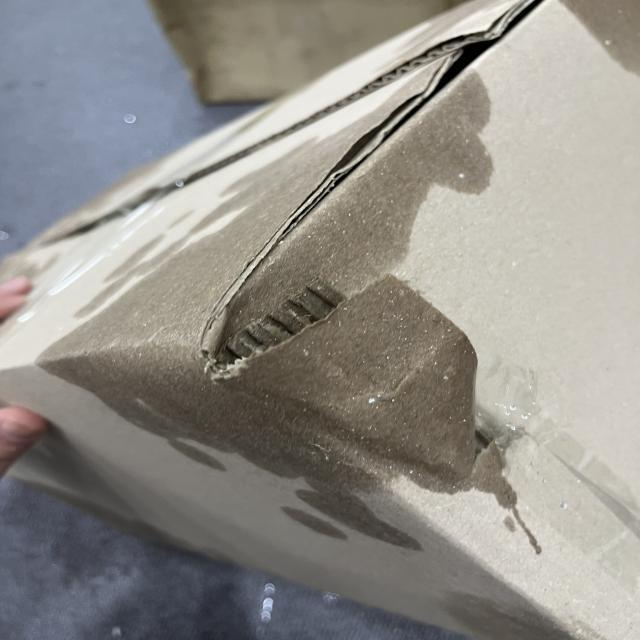wet: (55, 55, 521, 546)
